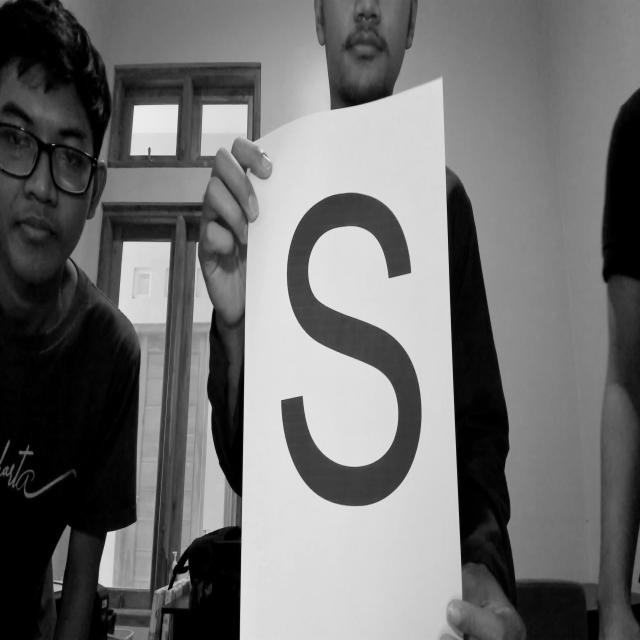s: (271, 165, 432, 536)
